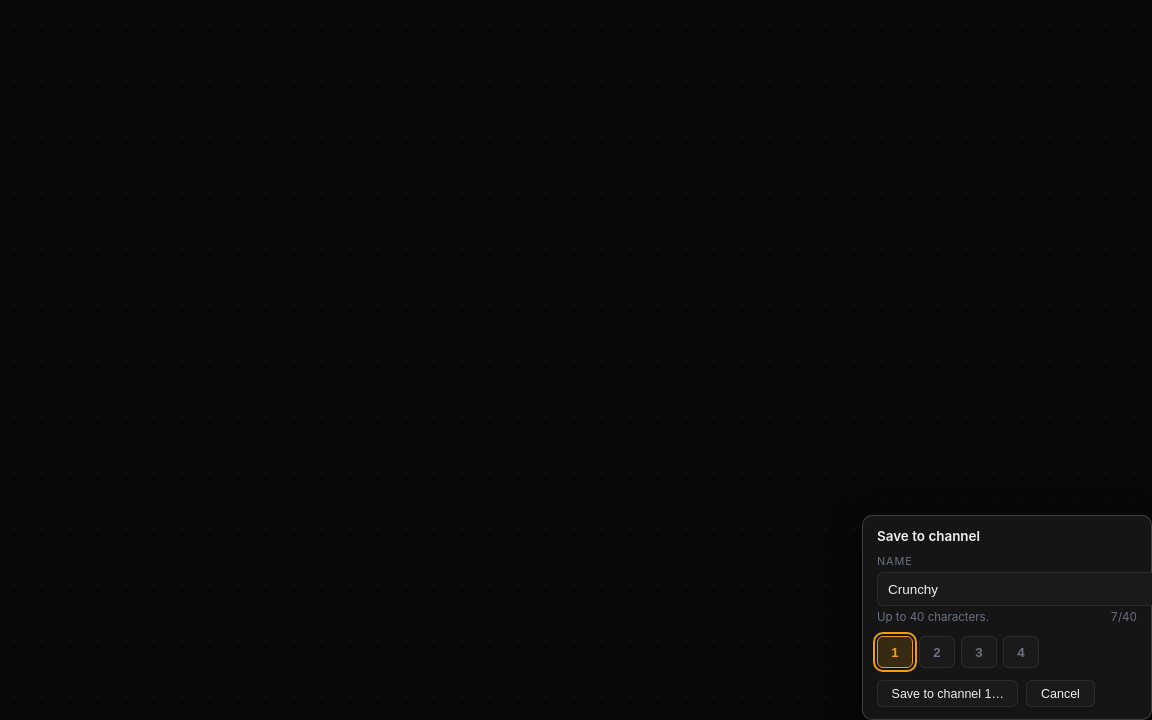
Test: save slot picker › treats a rejected save as a failure
(page scrolled)
Click the button "Save to channel 1…": click(948, 694) [877, 680, 1018, 707]
(page scrolled)
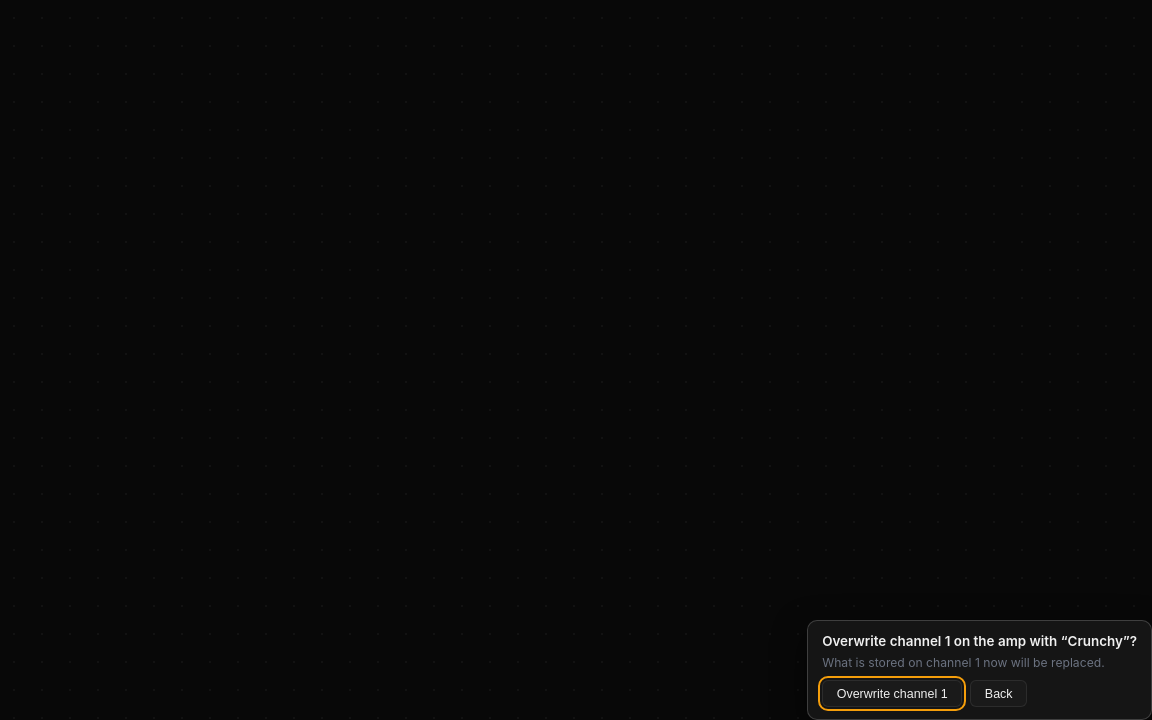
Click the button "Overwrite channel 1": click(892, 694) [822, 680, 962, 707]
(page scrolled)
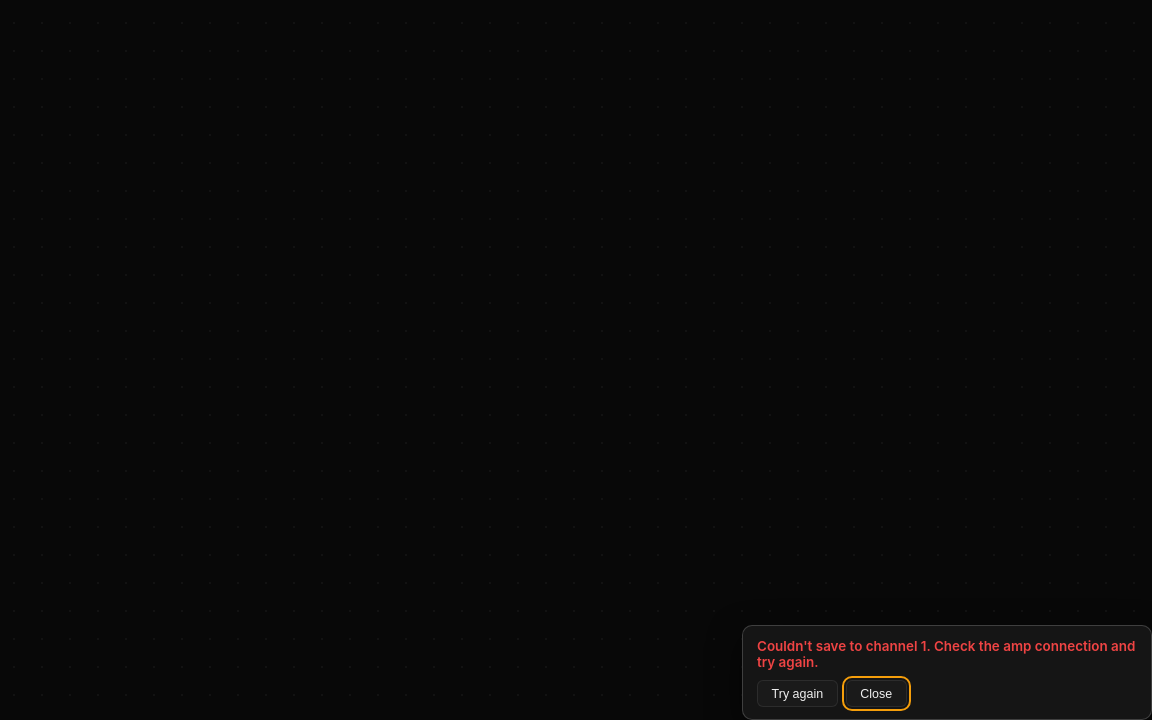
Expected: the message "Couldn't save to channel 1. Check the amp connection and try again." is shown, [757, 638, 1137, 670]
